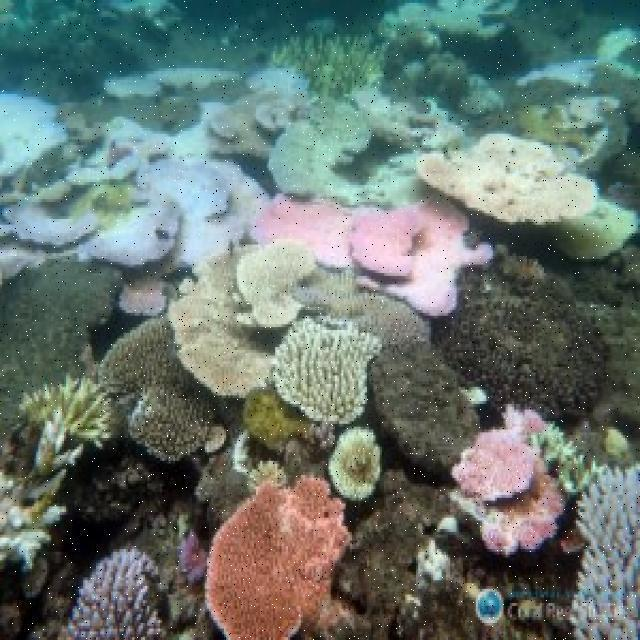Bleached: (4, 102, 270, 282), (260, 102, 464, 207), (420, 131, 601, 229), (171, 246, 280, 399), (567, 460, 640, 640), (274, 316, 384, 428), (67, 547, 164, 640), (20, 373, 108, 473), (513, 28, 640, 87), (241, 233, 319, 328), (269, 32, 385, 95), (352, 98, 469, 151), (2, 92, 69, 181), (1, 475, 65, 566), (383, 3, 521, 43), (539, 96, 622, 159), (104, 69, 242, 99), (536, 422, 591, 497), (329, 428, 383, 501), (113, 1, 179, 36), (119, 273, 172, 316), (253, 71, 314, 99), (418, 538, 451, 586), (247, 460, 289, 494), (131, 389, 151, 425), (460, 385, 490, 407), (608, 427, 629, 457), (236, 433, 250, 472), (438, 516, 458, 536), (308, 18, 336, 32), (406, 593, 423, 611)
Healthy: (434, 254, 615, 420), (251, 195, 492, 316), (211, 473, 350, 640), (4, 256, 125, 431), (100, 316, 219, 464), (454, 406, 566, 557), (245, 379, 320, 475), (213, 98, 288, 157), (179, 529, 210, 586)
